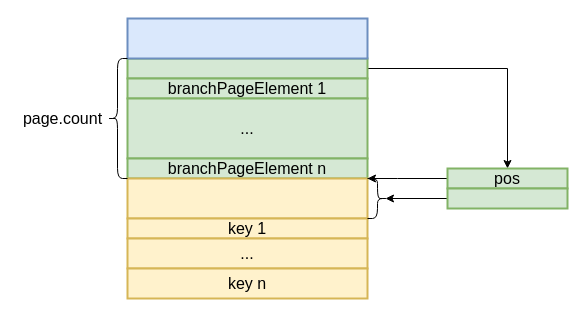
Some shapes in this 585 by 316 pixel diagram are drawn without their labels. The centre of each missing label's shape, as x and y in pixels:
"branchPageElement 0" goes at (247,68).
"key 0" goes at (247,198).
"ksize" goes at (507,198).
"page" goes at (247,38).
